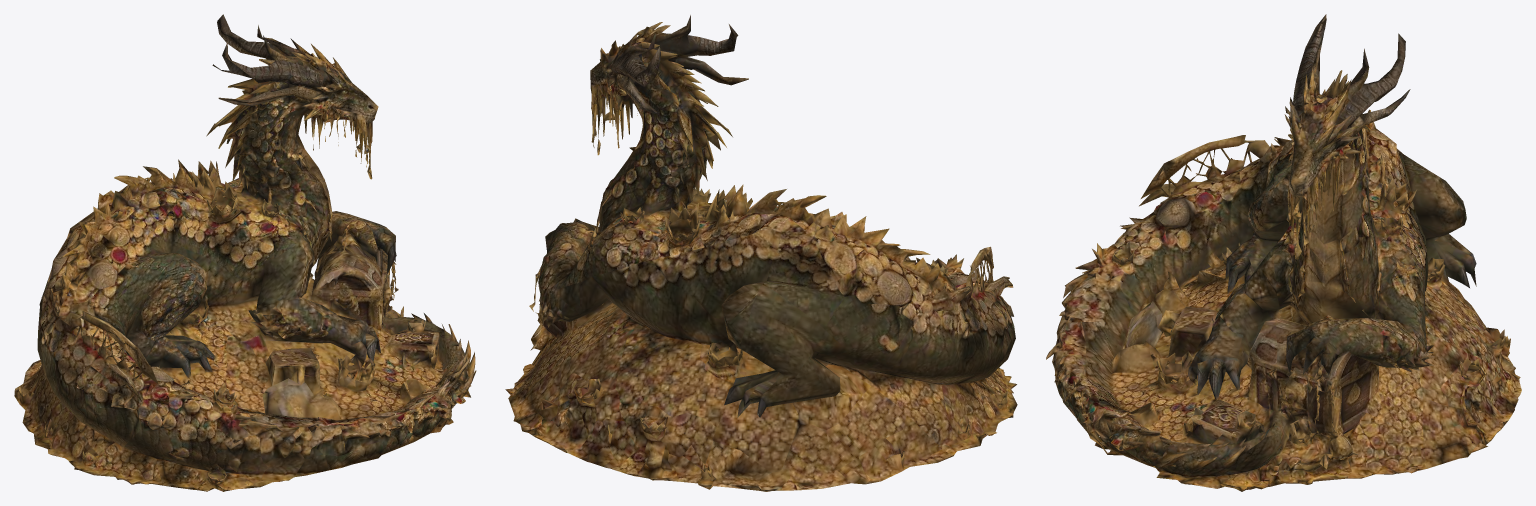
Rendered from camps_elder-drake.glb.
3 views of the same model, side by side, from view 1: azimuth 30°, elevation 25°; view 2: azimuth 150°, elevation 25°; view 3: azimuth 270°, elevation 25° (orthographic). The views are drawn at different scales.
Parts seen in each view (by area): view 1: tripo_node_ce208948-4162-4fe9-9ae6-5c669641f910; view 2: tripo_node_ce208948-4162-4fe9-9ae6-5c669641f910; view 3: tripo_node_ce208948-4162-4fe9-9ae6-5c669641f910.
Part boxes in pixels (box(x1,y1,x2,y2)): tripo_node_ce208948-4162-4fe9-9ae6-5c669641f910: box(14, 14, 476, 491); tripo_node_ce208948-4162-4fe9-9ae6-5c669641f910: box(505, 15, 1017, 491); tripo_node_ce208948-4162-4fe9-9ae6-5c669641f910: box(1046, 14, 1521, 491).
Bounding box in the file's own units: 0.9769 × 0.7888 × 0.9067.
1 material, 1 textured.
